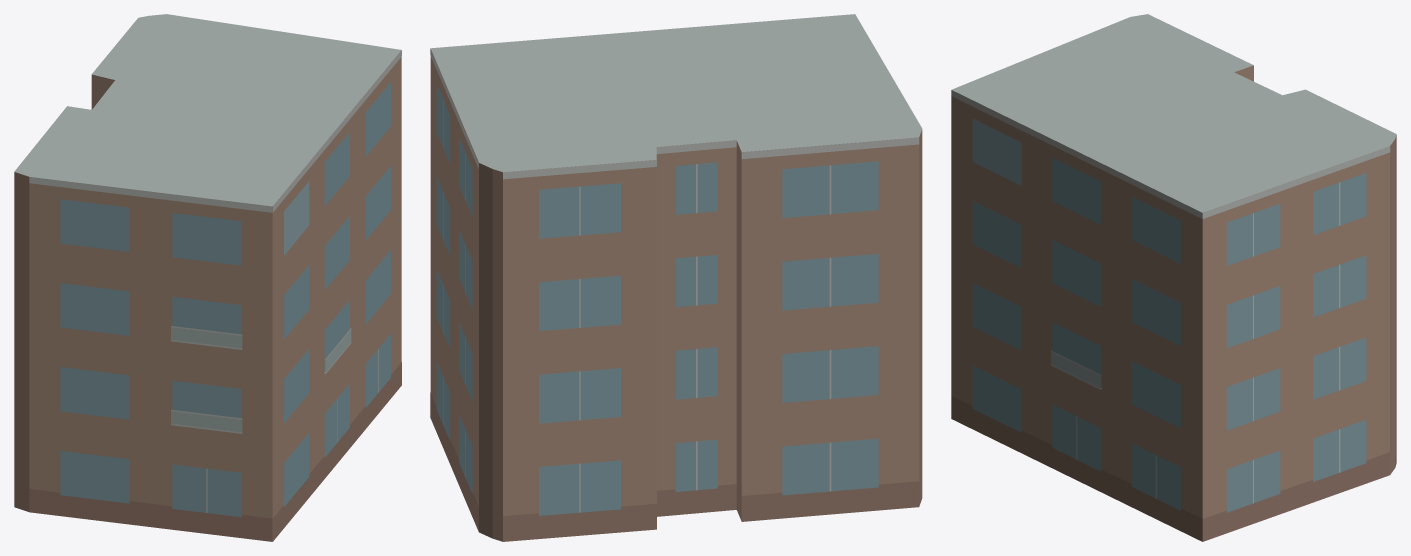
Rendered from survey-upis-32915839.glb.
3 renders of one model, left to right at view 1: azimuth 30°, elevation 25°; view 2: azimuth 150°, elevation 25°; view 3: azimuth 270°, elevation 25°, orthographic. The views are drawn at different scales.
Parts seen in each view (by area): view 1: survey-upis-32915839.tmp; view 2: survey-upis-32915839.tmp; view 3: survey-upis-32915839.tmp.
Part boxes in pixels (box(x1,y1,x2,y2)): survey-upis-32915839.tmp: box(14, 14, 401, 541); survey-upis-32915839.tmp: box(430, 14, 922, 541); survey-upis-32915839.tmp: box(951, 14, 1396, 541).
Size of the model in its own units: 16.6 by 12.8 by 15.71.
